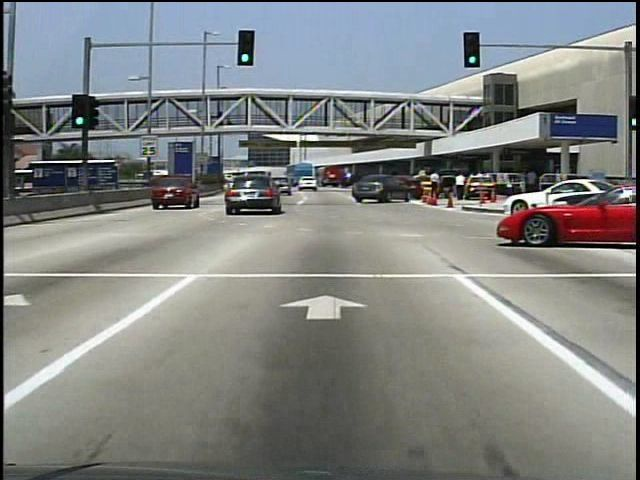person: (427, 170, 444, 205), (503, 174, 518, 209), (454, 173, 470, 202), (525, 172, 538, 194), (216, 112, 226, 130)
